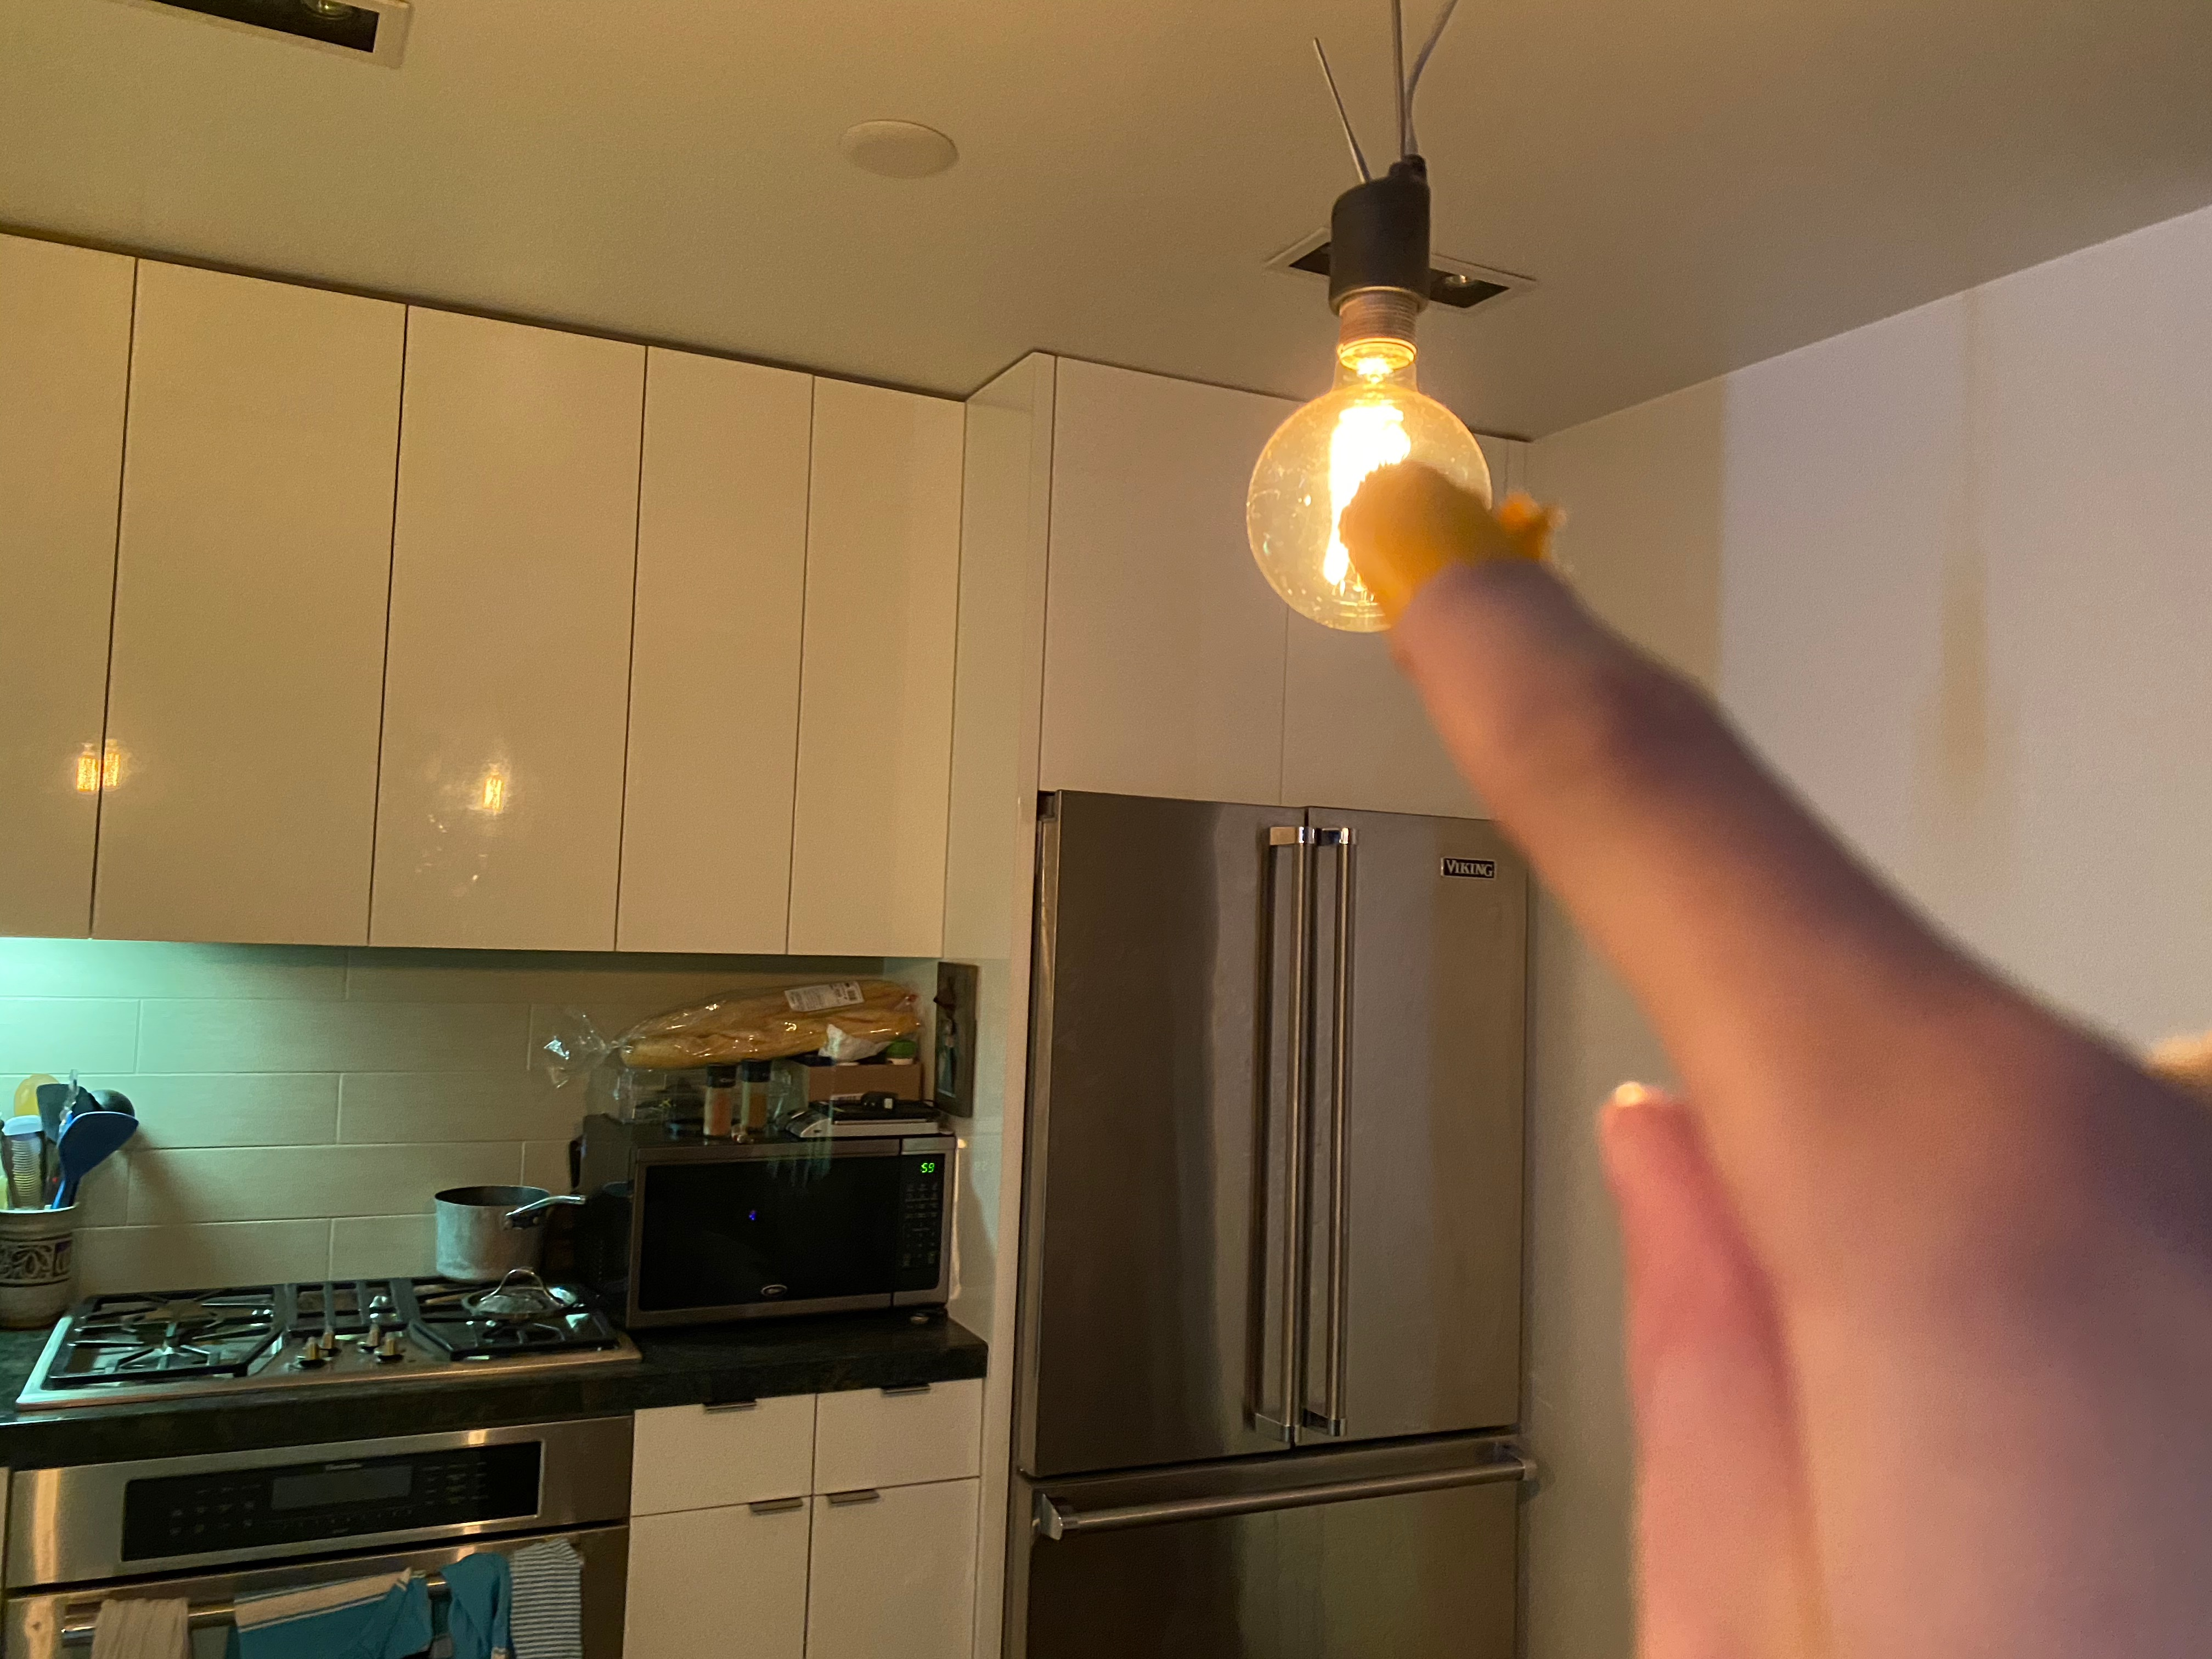fingertip: (1291, 443, 1522, 620)
